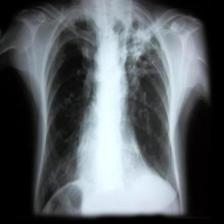tuberculosis: (30, 4, 186, 215)
